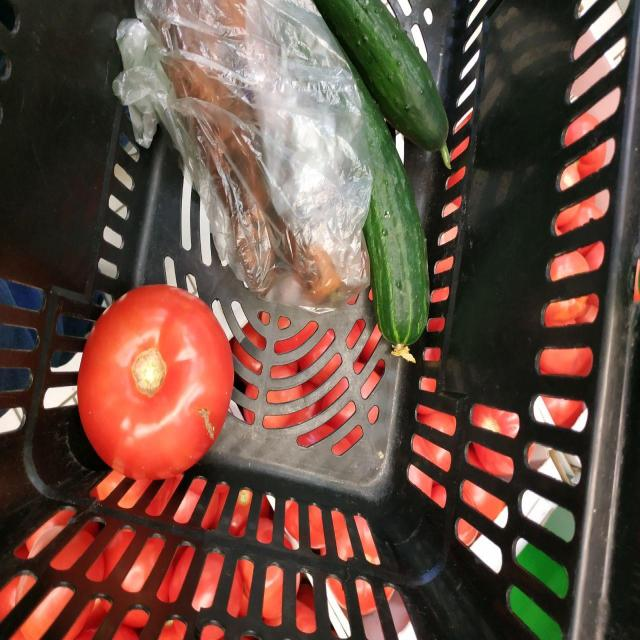Carrot: (164, 57, 342, 303)
Cucumber: (351, 62, 429, 362), (315, 0, 450, 166)
Tomatoes: (78, 285, 234, 480)
